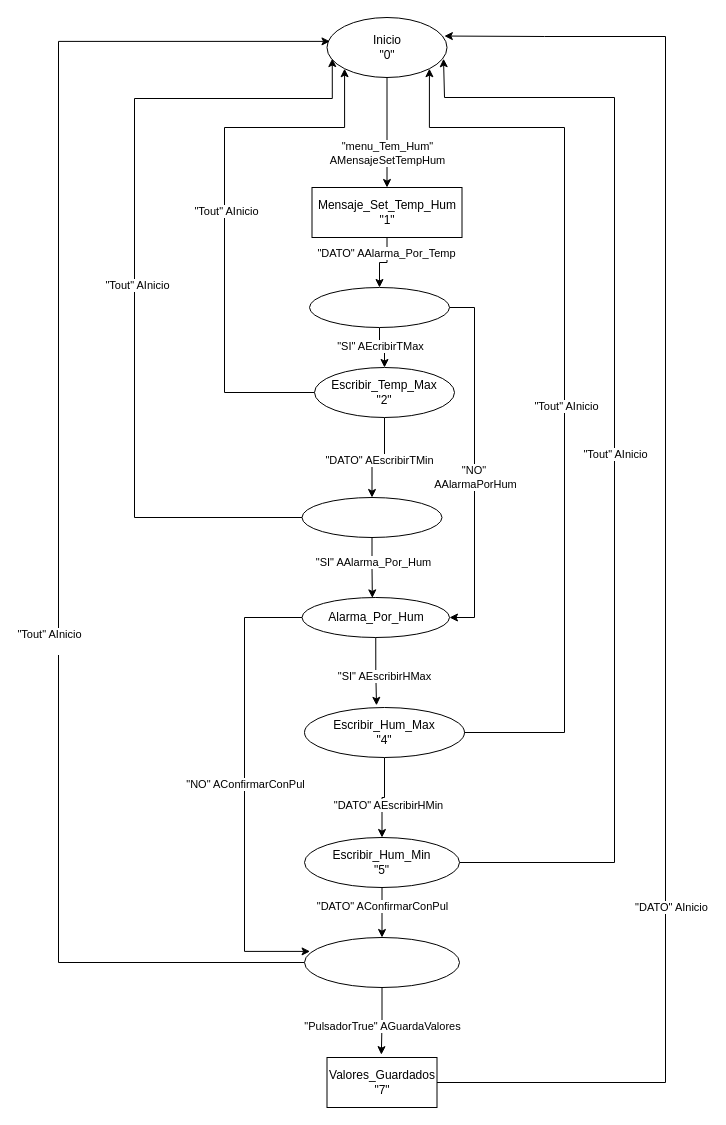
This 726x1125 diagram has some shape labels left out. The shapes that lost their labels are listed below. From the top down, each one's box as (x1, y1, x2, y2) in pixels, then its label:
(308, 286, 450, 328): Alarma_Por_Temp
(301, 496, 442, 538): Escribir_Temp_Min "3"
(304, 936, 460, 988): Confirmar_Con_Pulsador "6"
